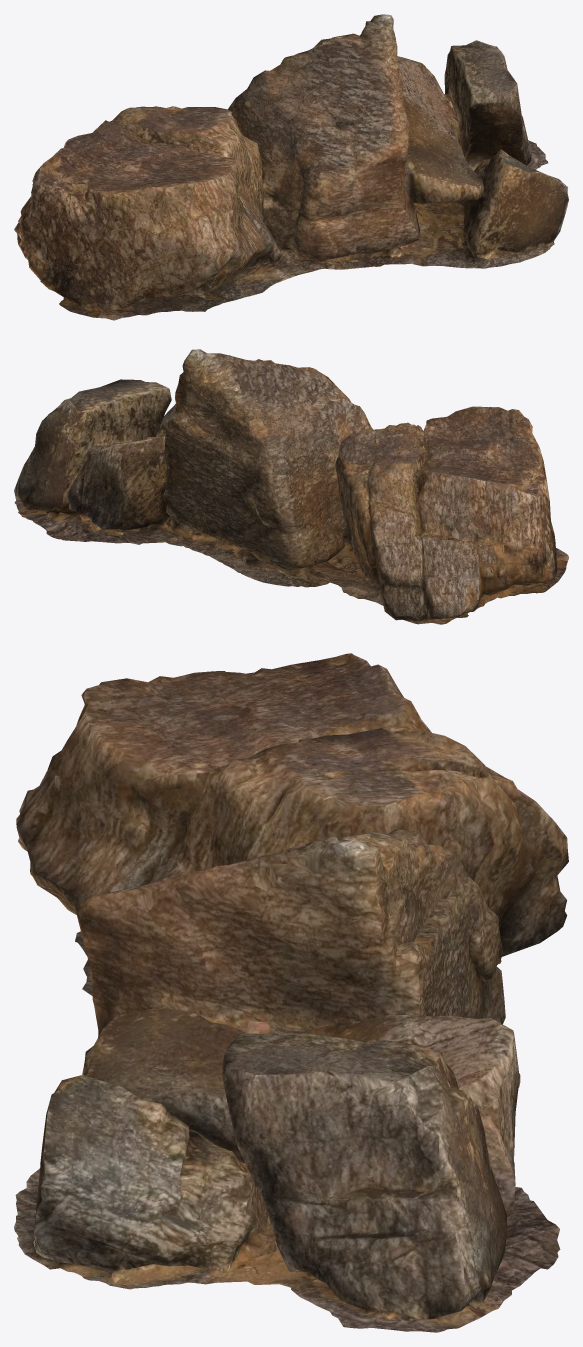
The model's file is boulder_02.glb.
3 renders of one model, top to bottom at view 1: azimuth 30°, elevation 25°; view 2: azimuth 150°, elevation 25°; view 3: azimuth 270°, elevation 25°, orthographic. The views are drawn at different scales.
Parts seen in each view (by area): view 1: namaqualand_boulder_02_LOD3; view 2: namaqualand_boulder_02_LOD3; view 3: namaqualand_boulder_02_LOD3.
Part boxes in pixels (left/top/right/bottom): namaqualand_boulder_02_LOD3: left=14, top=14, right=568, bottom=320; namaqualand_boulder_02_LOD3: left=14, top=349, right=568, bottom=624; namaqualand_boulder_02_LOD3: left=14, top=653, right=568, bottom=1332.
Size of the model in its own units: 2.53 by 0.8778 by 1.23.
Materials: 1 (1 with a texture image).
